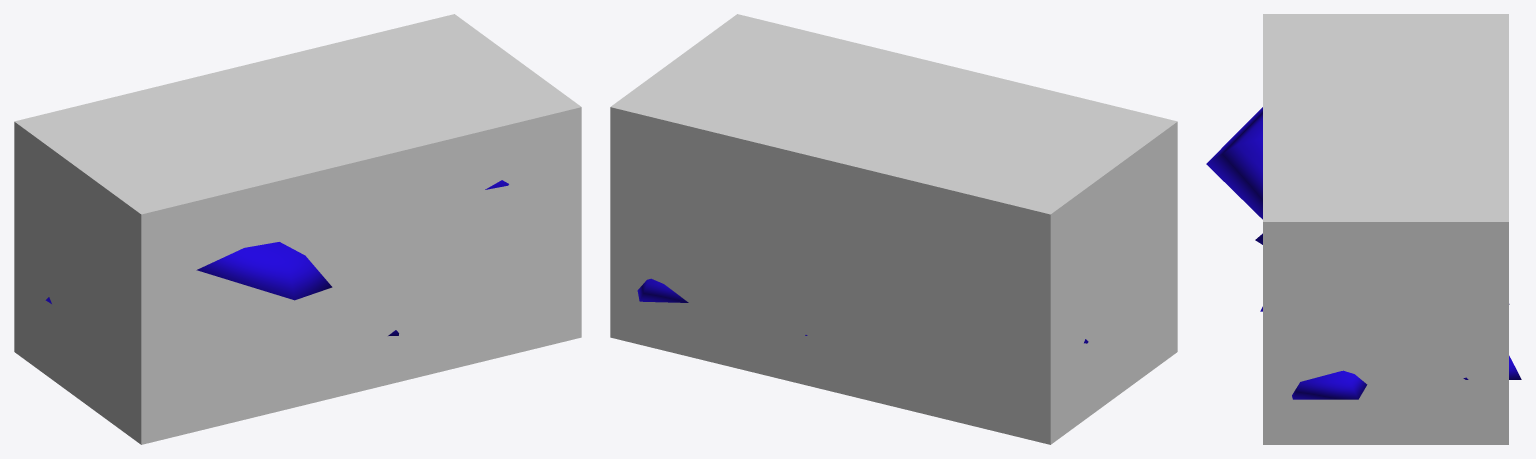
The model's file is obstacle_B_02.fbx.
The picture shows the model from 3 angles, left to right: view 1: azimuth 30°, elevation 25°; view 2: azimuth 150°, elevation 25°; view 3: azimuth 270°, elevation 25°; orthographic projection. The views are drawn at different scales.
Visible parts, largest first — view 1: obstacle_B_02.cldr, obstacle_B_02; view 2: obstacle_B_02.cldr, obstacle_B_02; view 3: obstacle_B_02.cldr, obstacle_B_02.
Part boxes in pixels (x1,y1,x2,y2): obstacle_B_02.cldr: (14,14,581,444); obstacle_B_02: (45,180,508,335); obstacle_B_02.cldr: (610,14,1177,444); obstacle_B_02: (637,278,1088,343); obstacle_B_02.cldr: (1263,14,1508,444); obstacle_B_02: (1206,107,1521,399).
Size of the model in its own units: 209 by 107 by 128.
